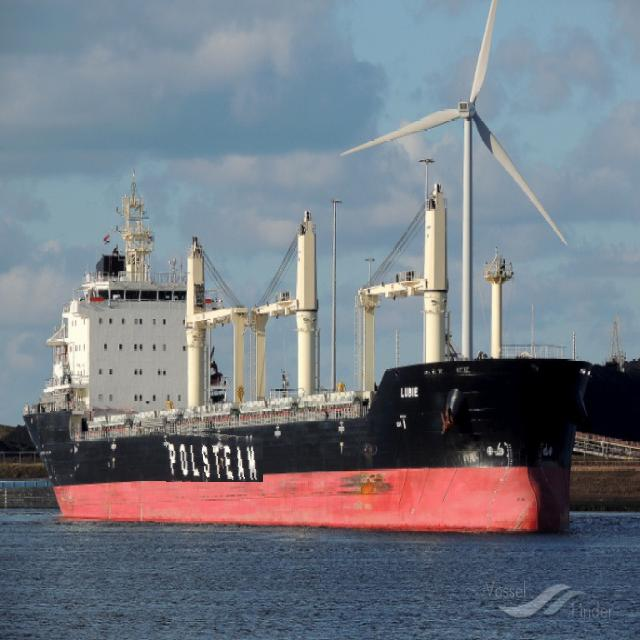OCR: (155, 426, 263, 482)
